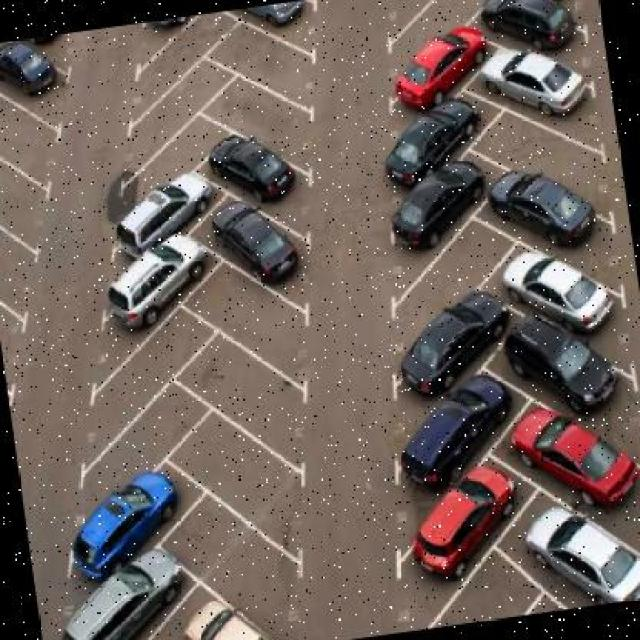Car: (423, 480, 507, 554), (412, 301, 492, 375), (87, 467, 167, 541), (498, 169, 584, 236), (487, 41, 569, 104), (81, 576, 164, 638), (232, 203, 299, 272), (121, 260, 189, 326), (427, 393, 503, 449), (538, 420, 599, 480), (518, 338, 581, 395), (550, 529, 615, 583), (416, 30, 475, 89), (527, 255, 590, 307), (121, 190, 204, 226), (418, 174, 481, 220), (495, 1, 573, 38), (406, 107, 457, 160), (181, 605, 252, 640), (7, 54, 52, 94), (232, 140, 272, 177), (268, 2, 297, 38), (166, 20, 172, 29)
Empty: (198, 521, 278, 595), (230, 281, 289, 352), (216, 367, 275, 427), (429, 229, 486, 290), (138, 78, 201, 132), (212, 430, 267, 490), (500, 120, 567, 169), (238, 81, 292, 139), (472, 557, 516, 620), (229, 30, 283, 81), (150, 31, 206, 80), (110, 347, 166, 395), (137, 129, 214, 160), (1, 118, 55, 158), (1, 166, 29, 237), (417, 1, 462, 39), (124, 413, 170, 446), (1, 238, 19, 284), (389, 1, 416, 4)
